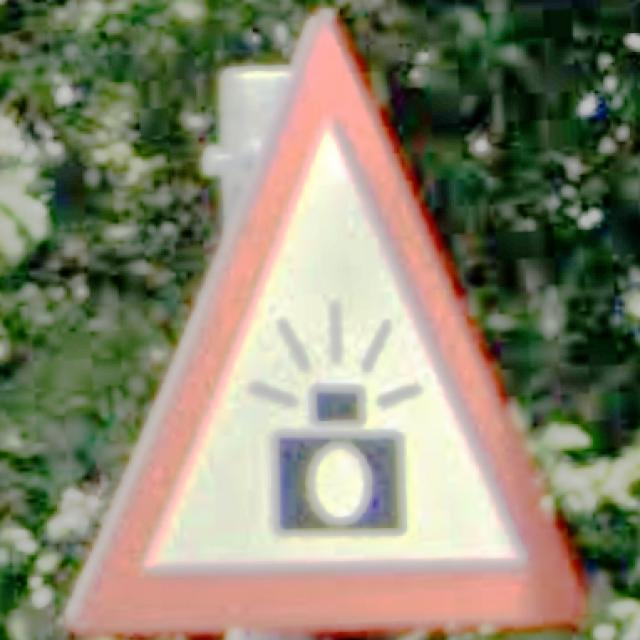speedcamera: (72, 17, 579, 633)
